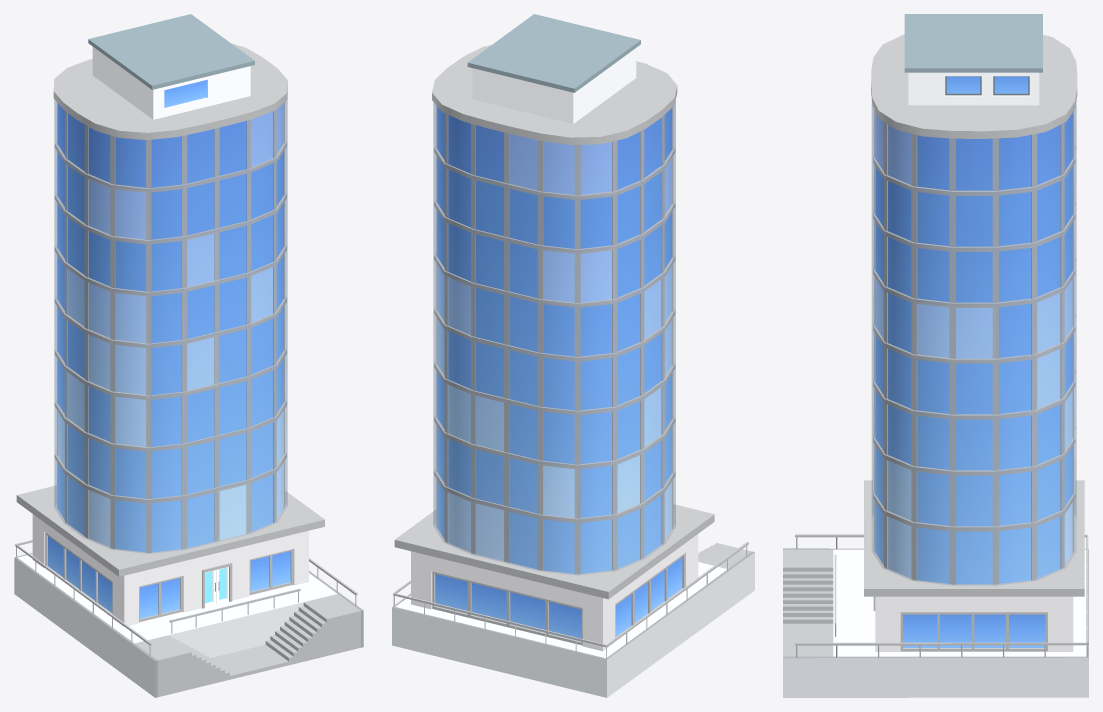
File: city2-building-business-07.glb
3 renders of one model, left to right at view 1: azimuth 30°, elevation 25°; view 2: azimuth 150°, elevation 25°; view 3: azimuth 270°, elevation 25°, orthographic. The views are drawn at different scales.
Visible parts, largest first — view 1: Building_Business_07; view 2: Building_Business_07; view 3: Building_Business_07.
Boxes of the visible parts, x1=… form: Building_Business_07: x1=14, y1=14, x2=363, y2=697; Building_Business_07: x1=392, y1=14, x2=754, y2=697; Building_Business_07: x1=783, y1=14, x2=1088, y2=697.
Bounding box in the file's own units: 13.21 × 33.81 × 15.56.
2 materials, 2 textured.
